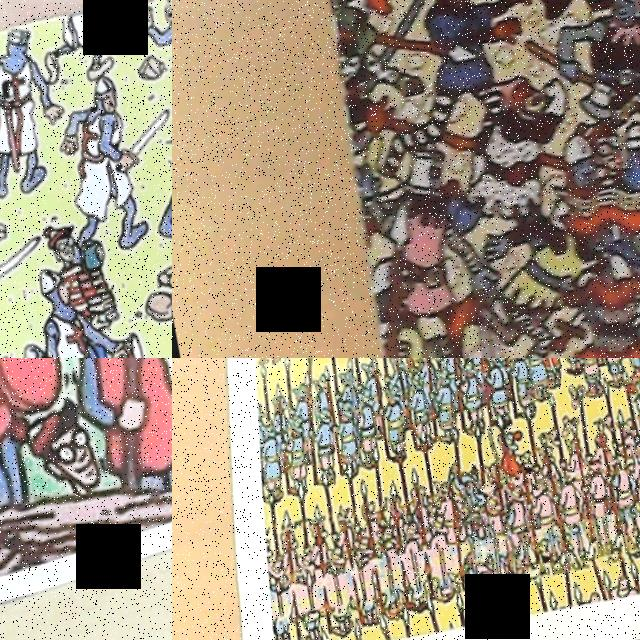waldo: (2, 398, 112, 507), (584, 117, 627, 179), (42, 219, 83, 274)
